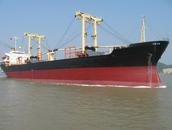Cargoship: (1, 10, 170, 86)
